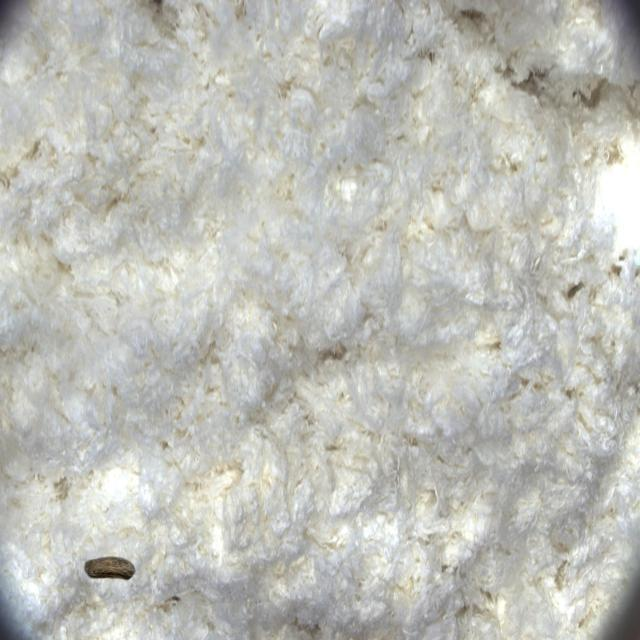dust: (63, 515, 153, 630)
